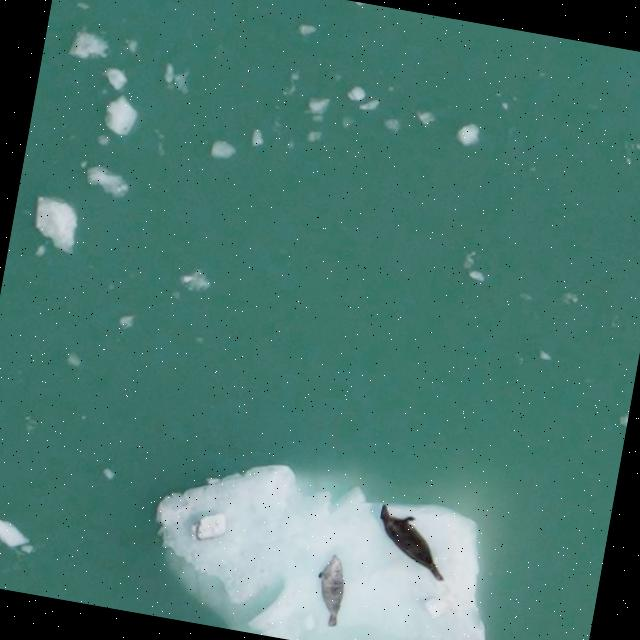seal: (369, 494, 459, 587), (315, 552, 349, 626)
